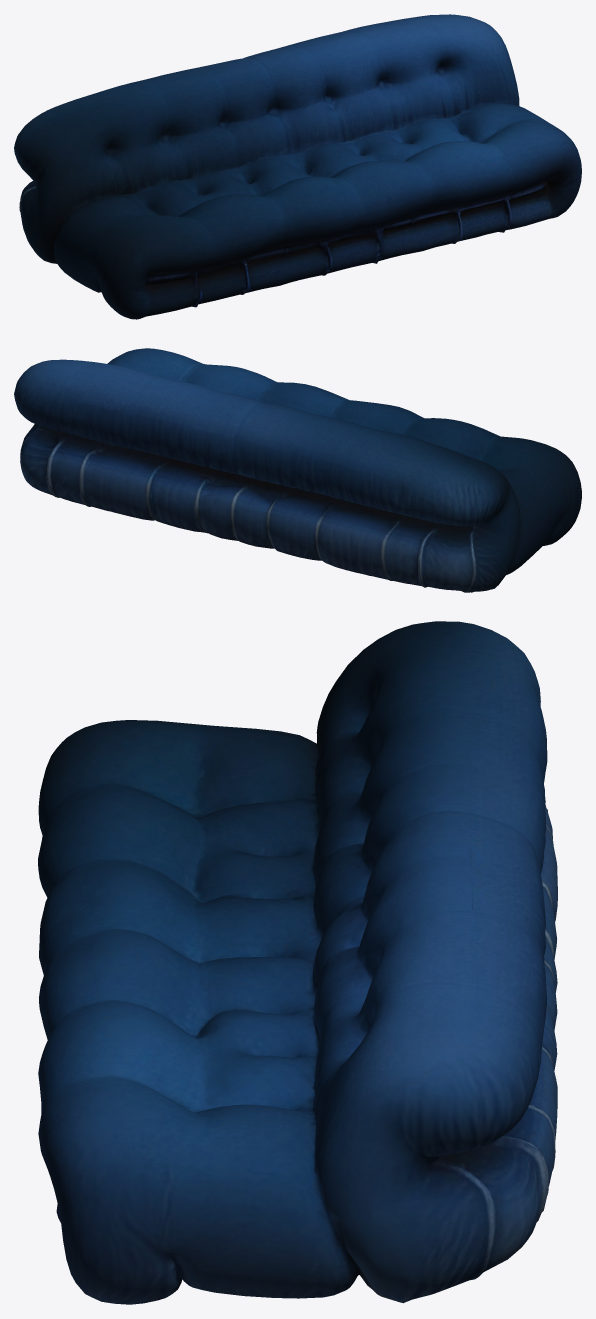
Rendered from 03_SORIANA.glb.
3 views of the same model, one above another, from view 1: azimuth 30°, elevation 25°; view 2: azimuth 150°, elevation 25°; view 3: azimuth 270°, elevation 25° (orthographic). The views are drawn at different scales.
Visible parts, largest first — view 1: 1_sofa.003; view 2: 1_sofa.003; view 3: 1_sofa.003.
Boxes of the visible parts, bbox=[...] form: 1_sofa.003: bbox=[14, 14, 581, 319]; 1_sofa.003: bbox=[14, 348, 581, 592]; 1_sofa.003: bbox=[38, 621, 557, 1304].
Size of the model in its own units: 2.32 by 0.6785 by 1.09.
1 material, 1 textured.
